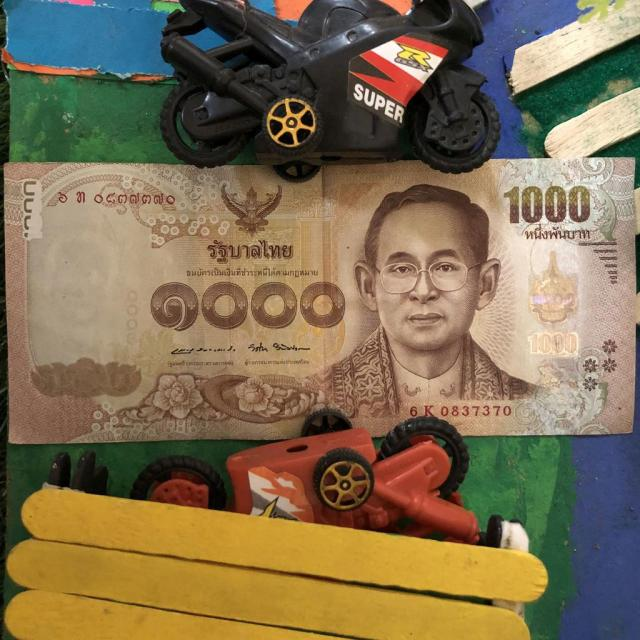THAI1000: (4, 158, 639, 446)
